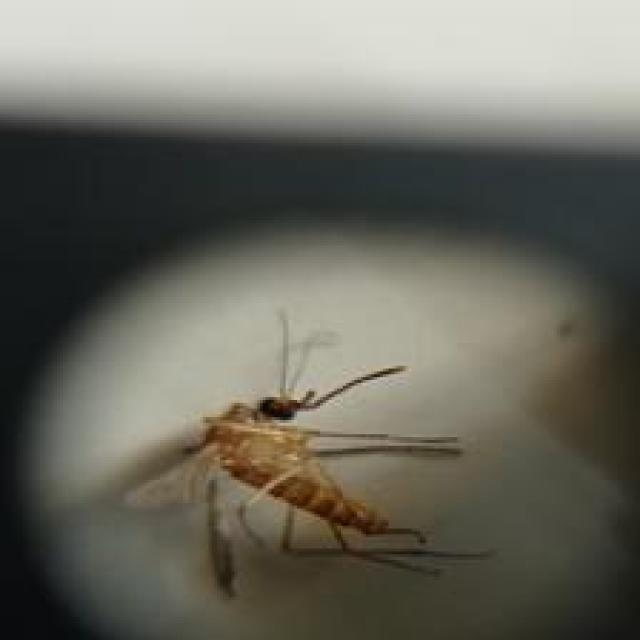Culex: (121, 307, 496, 599)
